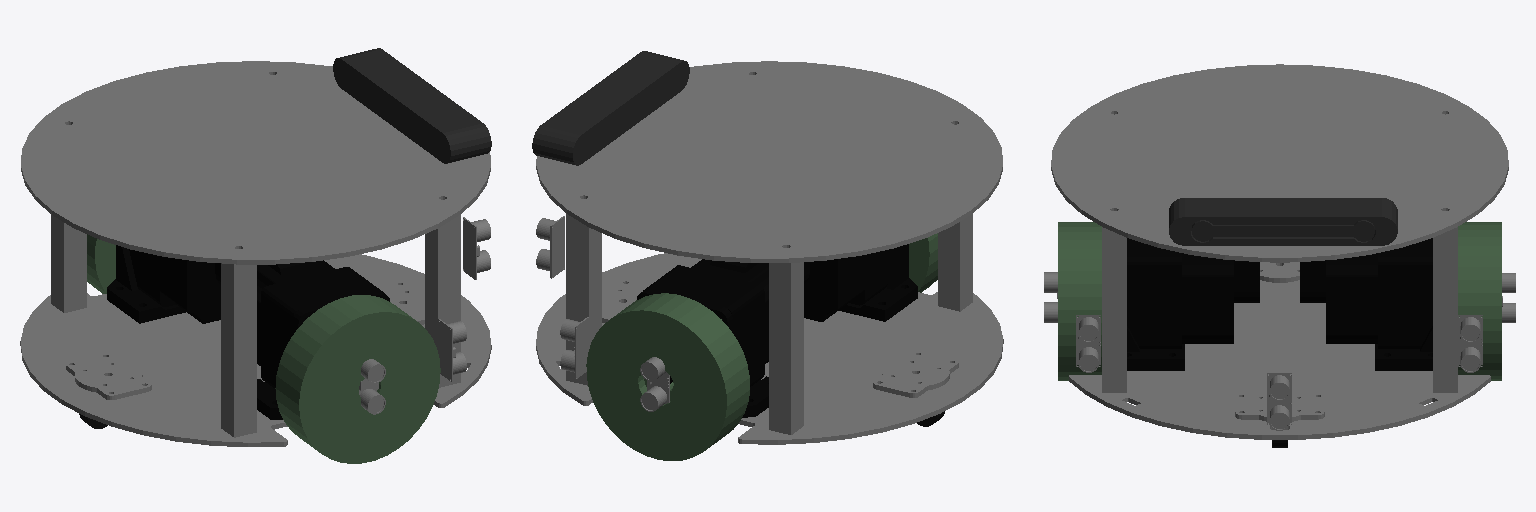
The robot description file, URDF, robot "bucketbot_description":
<robot
  name="bucketbot_description">
  <link name="base_footprint"/>
    <joint name="base_joint" type="fixed">
      <origin xyz="0 0 0.0102" rpy="0 0 0" />
      <parent link="base_footprint"/>
      <child link="base_link" />
    </joint>
  <link
    name="base_link">
    <inertial>
      <origin
        xyz="-0.0499953708642669 0.273628593838788 0.235169610668493"
        rpy="0 0 0" />
      <mass
        value="0.367366200465706" />
      <inertia
        ixx="0.00331510122406848"
        ixy="5.85609399730688E-21"
        ixz="-1.82174000558671E-19"
        iyy="0.00553148809580428"
        iyz="-4.22084839832949E-08"
        izz="0.00221806653528144" />
    </inertial>
    <visual>
      <origin
        xyz="0 0 0"
        rpy="0 0 3.1415" />
      <geometry>
        <mesh
          filename="package://bucketbot_description/meshes/base_link.stl" />
      </geometry>
      <material
        name="">
        <color
          rgba="0.5 0.5 0.5 1" />
      </material>
    </visual>
    <collision>
      <origin
        xyz="0 0 0"
        rpy="0 0 0" />
      <geometry>
        <mesh
          filename="package://bucketbot_description/meshes/base_link.stl" />
      </geometry>
    </collision>
  </link>
  <link
    name="motor_link">
    <inertial>
      <origin
        xyz="1.1102E-16 0.0023428 0.127"
        rpy="0 0 0" />
      <mass
        value="1.3269" />
      <inertia
        ixx="0.0113"
        ixy="-2.4346E-19"
        ixz="1.0262E-17"
        iyy="0.011261"
        iyz="-1.4454E-10"
        izz="0.0015606" />
    </inertial>
    <visual>
      <origin
        xyz="0 0 0"
        rpy="0 0 0" />
      <geometry>
        <mesh
          filename="package://bucketbot_description/meshes/motor_link.stl" />
      </geometry>
      <material
        name="">
        <color
          rgba="0.05 0.05 0.05 1" />
      </material>
    </visual>
    <collision>
      <origin
        xyz="0 0 0"
        rpy="0 0 0" />
      <geometry>
        <mesh
          filename="package://bucketbot_description/meshes/motor_link.stl" />
      </geometry>
    </collision>
  </link>
  <joint
    name="motor_joint"
    type="fixed">
    <origin
      xyz="0 -0.127 0.0515"
      rpy="-1.5708 -1.6653E-15 -2.6914E-16" />
    <parent
      link="base_link" />
    <child
      link="motor_link" />
    <axis
      xyz="0 0 0" />
  </joint>
  <link
    name="omini_wheel_link">
    <inertial>
      <origin
        xyz="-1.201E-07 -0.014473 -0.13577"
        rpy="0 0 0" />
      <mass
        value="0.024238" />
      <inertia
        ixx="0.00041417"
        ixy="1.0458E-11"
        ixz="-1.1015E-11"
        iyy="0.00041218"
        iyz="1.143E-06"
        izz="4.0051E-06" />
    </inertial>
    <visual>
      <origin
        xyz="0 0 0"
        rpy="0 0 0" />
      <geometry>
        <mesh
          filename="package://bucketbot_description/meshes/omini_wheel_link.stl" />
      </geometry>
      <material
        name="">
        <color
          rgba="0.1 0.1 0.1 1" />
      </material>
    </visual>
    <collision>
      <origin
        xyz="0 0 0"
        rpy="0 0 0" />
      <geometry>
        <mesh
          filename="package://bucketbot_description/meshes/omini_wheel_link.stl" />
      </geometry>
    </collision>
  </link>
  <joint
    name="omini_wheel_joint"
    type="fixed">
    <origin
      xyz="0.13 0 0.0025"
      rpy="1.5708 -4.482E-31 1.5708" />
    <parent
      link="base_link" />
    <child
      link="omini_wheel_link" />
    <axis
      xyz="0 0 0" />
  </joint>
  <link
    name="pole_link">
    <inertial>
      <origin
        xyz="0.13 0.075 0.09"
        rpy="0 0 0" />
      <mass
        value="0.23757" />
      <inertia
        ixx="0.0023712"
        ixy="4.2381E-19"
        ixz="-1.0842E-19"
        iyy="0.0059551"
        iyz="-2.881E-19"
        izz="0.0044618" />
    </inertial>
    <visual>
      <origin
        xyz="0 0 0"
        rpy="0 0 0" />
      <geometry>
        <mesh
          filename="package://bucketbot_description/meshes/pole_link.stl" />
      </geometry>
      <material
        name="">
        <color
          rgba="0.5 0.5 0.5 1" />
      </material>
    </visual>
    <collision>
      <origin
        xyz="0 0 0"
        rpy="0 0 0" />
      <geometry>
        <mesh
          filename="package://bucketbot_description/meshes/pole_link.stl" />
      </geometry>
    </collision>
  </link>
  <joint
    name="pole_joint"
    type="fixed">
    <origin
      xyz="-0.09 -0.13 0.004"
      rpy="1.5708 -4.482E-31 1.5708" />
    <parent
      link="base_link" />
    <child
      link="pole_link" />
    <axis
      xyz="0 0 0" />
  </joint>
  <link
    name="top_plate_link">
    <inertial>
      <origin
        xyz="0 0.002 0"
        rpy="0 0 0" />
      <mass
        value="0.40662" />
      <inertia
        ixx="0.0032942"
        ixy="5.1699E-24"
        ixz="-2.068E-22"
        iyy="0.0065826"
        iyz="2.5849E-24"
        izz="0.0032895" />
    </inertial>
    <visual>
      <origin
        xyz="0 0 0"
        rpy="0 0 0" />
      <geometry>
        <mesh
          filename="package://bucketbot_description/meshes/top_plate_link.stl" />
      </geometry>
      <material
        name="">
        <color
          rgba="0.5 0.5 0.5 1" />
      </material>
    </visual>
    <collision>
      <origin
        xyz="0 0 0"
        rpy="0 0 0" />
      <geometry>
        <mesh
          filename="package://bucketbot_description/meshes/top_plate_link.stl" />
      </geometry>
    </collision>
  </link>
  <joint
    name="top_plate_joint"
    type="fixed">
    <origin
      xyz="0 0 0.154"
      rpy="1.5708 -4.482E-31 1.5708" />
    <parent
      link="base_link" />
    <child
      link="top_plate_link" />
    <axis
      xyz="0 0 0" />
  </joint>
  <link
    name="camera_link">
    <inertial>
      <origin
        xyz="1.3878E-17 1.1102E-16 -0.00026767"
        rpy="0 0 0" />
      <mass
        value="0.154" />
      <inertia
        ixx="2.4237E-05"
        ixy="-9.6537E-22"
        ixz="-8.3256E-21"
        iyy="0.00041068"
        iyz="-2.6916E-22"
        izz="0.00040212" />
    </inertial>
    <visual>
      <origin
        xyz="0 0 0"
        rpy="1.5708 0 1.5708" />
      <geometry>
        <mesh
          filename="package://bucketbot_description/meshes/camera_link.stl" />
      </geometry>
      <material
        name="">
        <color
          rgba="0.2 0.2 0.2 1" />
      </material>
    </visual>
    <collision>
      <origin
        xyz="0 0 0"
        rpy="0 0 0" />
      <geometry>
        <mesh
          filename="package://bucketbot_description/meshes/camera_link.stl" />
      </geometry>
    </collision>
  </link>
  <joint
    name="camera_joint"
    type="fixed">
    <origin
      xyz="0.13946 0.0026256 0.1705"
      rpy="0 -4.482E-31 0" />
    <parent
      link="base_link" />
    <child
      link="camera_link" />
    <axis
      xyz="0 0 0" />
  </joint>
  <!--for camera sensor model -->
      <joint name="camera_depth_joint" type="fixed">
        <origin xyz="0.0 0.049 0.0" rpy="0 0 0" />
        <parent link="camera_link" />
        <child link="camera_depth_frame"/>
      </joint>
      <link name="camera_depth_frame"/>

      <joint name="camera_depth_optical_joint" type="fixed">
        <origin xyz="0 0 0" rpy="-1.5708 0.0 -1.5708" />
        <parent link="camera_depth_frame" />
        <child link="camera_depth_optical_frame"/>
      </joint>

      <link name="camera_depth_optical_frame"/>

      <joint name="camera_rgb_joint" type="fixed">
        <origin xyz="0.0 0.022 0.0" rpy="0 0 0" />
        <parent link="camera_link" />
        <child link="camera_rgb_frame"/>
      </joint>

      <link name="camera_rgb_frame"/>

      <joint name="camera_rgb_optical_joint" type="fixed">
        <origin xyz="0 0 0" rpy="-1.5708 0.0 -1.5708" />
        <parent link="camera_rgb_frame" />
        <child link="camera_rgb_optical_frame"/>
      </joint>
      <link name="camera_rgb_optical_frame"/>
  <!--link
    name="laser_link">
    <inertial>
      <origin
        xyz="-0.0034294 -1.7992E-10 -0.0064564"
        rpy="0 0 0" />
      <mass
        value="0.14728" />
      <inertia
        ixx="6.2168E-05"
        ixy="2.8308E-12"
        ixz="5.4164E-06"
        iyy="8.3311E-05"
        iyz="3.0404E-13"
        izz="0.00011395" />
    </inertial>
    <visual>
      <origin
        xyz="0 0 0"
        rpy="0 0 0" />
      <geometry>
        <mesh
          filename="package://bucketbot_description/meshes/laser_link.STL" />
      </geometry>
      <material
        name="">
        <color
          rgba="0.75294 0.75294 0.75294 1" />
      </material>
    </visual>
    <collision>
      <origin
        xyz="0 0 0"
        rpy="0 0 0" />
      <geometry>
        <mesh
          filename="package://bucketbot_description/meshes/laser_link.STL" />
      </geometry>
    </collision>
  </link>
  <joint
    name="laser"
    type="fixed">
    <origin
      xyz="0.1425 0 0.204"
      rpy="0 0 6.314E-15" />
    <parent
      link="base_link" />
    <child
      link="laser_link" />
    <axis
      xyz="0 0 0" />
  </joint-->
  <!-- for three ultrasound for FC FR(angle 30) FC(angle 30)>
  <link
    name="FL_ultrasonic_link">
    <inertial>
      <origin
        xyz="0 0 0"
        rpy="0 0 0" />
      <mass
        value="0.42561" />
      <inertia
        ixx="0.00047626"
        ixy="-2.6156E-19"
        ixz="1.3553E-20"
        iyy="0.00086139"
        iyz="-5.6288E-20"
        izz="0.00047626" />
    </inertial>
    <visual>
      <origin
        xyz="0 -0.01022 -0.02275"
        rpy="0 -1.5708 -1.0472" />
      <geometry>
        <mesh
          filename="package://bucketbot_description/meshes/ultrasonic_link.STL" />
      </geometry>
      <material
        name="">
        <color
          rgba="0.5 0.5 0.5 1" />
      </material>
    </visual>
    <collision>
      <origin
        xyz="0 0 0"
        rpy="0 0 0" />
      <geometry>
        <mesh
          filename="package://bucketbot_description/meshes/ultrasonic_link.STL" />
      </geometry>
    </collision>
  </link>
  <joint
    name="FL_ultrasonic_joint"
    type="fixed">
    <origin
      xyz="0.163 0.094 0.04"
      rpy="0 0 0.5236" />
    <parent
      link="base_link" />
    <child
      link="FL_ultrasonic_link" />
    <axis
      xyz="0 0 0" />
  </joint>

  <link
    name="FC_ultrasonic_link">
    <inertial>
      <origin
        xyz="0 0 0"
        rpy="0 0 0" />
      <mass
        value="0.42561" />
      <inertia
        ixx="0.00047626"
        ixy="-2.6156E-19"
        ixz="1.3553E-20"
        iyy="0.00086139"
        iyz="-5.6288E-20"
        izz="0.00047626" />
    </inertial>
    <visual>
      <origin
        xyz="0 -0.01022 -0.02275"
        rpy="0 -1.5708 -1.5708" />
      <geometry>
        <mesh
          filename="package://bucketbot_description/meshes/ultrasonic_link.STL" />
      </geometry>
      <material
        name="">
        <color
          rgba="0.5 0.5 0.5 1" />
      </material>
    </visual>
    <collision>
      <origin
        xyz="0 0 0"
        rpy="0 0 0" />
      <geometry>
        <mesh
          filename="package://bucketbot_description/meshes/ultrasonic_link.STL" />
      </geometry>
    </collision>
  </link>
  <joint
    name="FC_ultrasonic_joint"
    type="fixed">
    <origin
      xyz="0.188 0 0.04"
      rpy="0 0 0" />
    <parent
      link="base_link" />
    <child
      link="FC_ultrasonic_link" />
    <axis
      xyz="0 0 0" />
  </joint>

  <link
    name="FR_ultrasonic_link">
    <inertial>
      <origin
        xyz="0 0 0"
        rpy="0 0 0" />
      <mass
        value="0.42561" />
      <inertia
        ixx="0.00047626"
        ixy="-2.6156E-19"
        ixz="1.3553E-20"
        iyy="0.00086139"
        iyz="-5.6288E-20"
        izz="0.00047626" />
    </inertial>
    <visual>
      <origin
        xyz="0 -0.01022 -0.02275"
        rpy="0 -1.5708 -2.0944" />
      <geometry>
        <mesh
          filename="package://bucketbot_description/meshes/ultrasonic_link.STL" />
      </geometry>
      <material
        name="">
        <color
          rgba="0.5 0.5 0.5 1" />
      </material>
    </visual>
    <collision>
      <origin
        xyz="0 0 0"
        rpy="0 0 0" />
      <geometry>
        <mesh
          filename="package://bucketbot_description/meshes/ultrasonic_link.STL" />
      </geometry>
    </collision>
  </link>
  <joint
    name="FR_ultrasonic_joint"
    type="fixed">
    <origin
      xyz="0.163 -0.094 0.04"
      rpy="0 0 -0.5236" />
    <parent
      link="base_link" />
    <child
      link="FR_ultrasonic_link" />
    <axis
      xyz="0 0 0" />
  </joint>
  <to here-->

  <link
    name="L_ultrasonic_link">
    <inertial>
      <origin
        xyz="0 0 0"
        rpy="0 0 0" />
      <mass
        value="0.42561" />
      <inertia
        ixx="0.00047626"
        ixy="-2.6156E-19"
        ixz="1.3553E-20"
        iyy="0.00086139"
        iyz="-5.6288E-20"
        izz="0.00047626" />
    </inertial>
    <visual>
      <origin
        xyz="0 -0.01022 -0.02275"
        rpy="0 -1.5708 -1.5708"  />
      <geometry>
        <mesh
          filename="package://bucketbot_description/meshes/ultrasonic_link.STL" />
      </geometry>
      <material
        name="">
        <color
          rgba="0.5 0.5 0.5 1" />
      </material>
    </visual>
    <collision>
      <origin
        xyz="0 0 0"
        rpy="0 0 0" />
      <geometry>
        <mesh
          filename="package://bucketbot_description/meshes/ultrasonic_link.STL" />
      </geometry>
    </collision>

  </link>
  <joint
    name="L_ultrasonic_joint"
    type="fixed">
    <origin

      xyz="0 0.170 0.04"
      rpy="0 0 1.5708" />
    <parent
      link="base_link" />
    <child

      link="L_ultrasonic_link" />
    <axis
      xyz="0 0 0" />
  </joint>

  <link

    name="FC_ultrasonic_link">
    <inertial>
      <origin
        xyz="0 0 0"
        rpy="0 0 0" />

      <mass
        value="0.42561" />
      <inertia
        ixx="0.00047626"
        ixy="-2.6156E-19"
        ixz="1.3553E-20"

        iyy="0.00086139"
        iyz="-5.6288E-20"
        izz="0.00047626" />
    </inertial>
    <visual>

      <origin
        xyz="0 -0.01022 -0.02275"
        rpy="0 -1.5708 -1.5708" />
      <geometry>
        <mesh

          filename="package://bucketbot_description/meshes/ultrasonic_link.STL" />
      </geometry>

      <material
        name="">
        <color
          rgba="0.5 0.5 0.5 1" />
      </material>
    </visual>

    <collision>
      <origin
        xyz="0 0 0"
        rpy="0 0 0" />
      <geometry>

        <mesh
          filename="package://bucketbot_description/meshes/ultrasonic_link.STL" />
      </geometry>
    </collision>
  </link>
  <joint

    name="FC_ultrasonic_joint"
    type="fixed">
    <origin
      xyz="0.188 0 0.04"
      rpy="0 0 0" />

    <parent
      link="base_link" />
    <child
      link="FC_ultrasonic_link" />
    <axis
      xyz="0 0 0" />

  </joint>

  <link
    name="R_ultrasonic_link">
    <inertial>

      <origin
        xyz="0 0 0"
        rpy="0 0 0" />
      <mass
        value="0.42561" />

      <inertia
        ixx="0.00047626"
        ixy="-2.6156E-19"
        ixz="1.3553E-20"
        iyy="0.00086139"
        iyz="-5.6288E-20"

        izz="0.00047626" />
    </inertial>
    <visual>
      <origin
        xyz="0 -0.01022 -0.02275"

        rpy="0 -1.5708 -1.5708" />
      <geometry>
        <mesh
          filename="package://bucketbot_description/meshes/ultrasonic_link.STL" />
      </geometry>
      <material

        name="">
        <color
          rgba="0.5 0.5 0.5 1" />
      </material>
    </visual>

    <collision>
      <origin
        xyz="0 0 0"
        rpy="0 0 0" />
      <geometry>
        <mesh

          filename="package://bucketbot_description/meshes/ultrasonic_link.STL" />
      </geometry>
    </collision>
  </link>
  <joint

    name="R_ultrasonic_joint"
    type="fixed">
    <origin
      xyz="0 -0.170 0.04"
      rpy="0 0 -1.5708" />

    <parent
      link="base_link" />
    <child
      link="R_ultrasonic_link" />
    <axis
      xyz="0 0 0" />

  </joint>

  <link
    name="FL_ultrasonic_link">
    <inertial>
      <origin

        xyz="0 0 0"
        rpy="0 0 0" />
      <mass
        value="0.42561" />
      <inertia

        ixx="0.00047626"
        ixy="-2.6156E-19"
        ixz="1.3553E-20"
        iyy="0.00086139"
        iyz="-5.6288E-20"
        izz="0.00047626" />
    </inertial>
    <visual>
      <origin
        xyz="0 -0.01022 -0.02275"
        rpy="0 -1.5708 -1.5708" />
      <geometry>
        <mesh
          filename="package://bucketbot_description/meshes/ultrasonic_link.STL" />
      </geometry>
      <material
        name="">
        <color
          rgba="0.5 0.5 0.5 1" />
      </material>
    </visual>
    <collision>
      <origin
        xyz="0 0 0"
        rpy="0 0 0" />
      <geometry>
        <mesh
          filename="package://bucketbot_description/meshes/ultrasonic_link.STL" />
      </geometry>
    </collision>
  </link>
  <joint
    name="FL_ultrasonic_joint"

    type="fixed">
    <origin
      xyz="0.080 0.150 0.04"
      rpy="0 0 0" />
    <parent

      link="base_link" />
    <child
      link="FL_ultrasonic_link" />
    <axis
      xyz="0 0 0" />
  </joint>

  <link
    name="FR_ultrasonic_link">
    <inertial>
      <origin

        xyz="0 0 0"
        rpy="0 0 0" />
      <mass
        value="0.42561" />
      <inertia

        ixx="0.00047626"
        ixy="-2.6156E-19"
        ixz="1.3553E-20"
        iyy="0.00086139"
        iyz="-5.6288E-20"
        izz="0.00047626" />
    </inertial>
    <visual>
      <origin
        xyz="0 -0.01022 -0.02275"
        rpy="0 -1.5708 -1.5708" />
      <geometry>
        <mesh
          filename="package://bucketbot_description/meshes/ultrasonic_link.STL" />
      </geometry>
      <material
        name="">
        <color
          rgba="0.5 0.5 0.5 1" />
      </material>
    </visual>
    <collision>
      <origin
        xyz="0 0 0"
        rpy="0 0 0" />
      <geometry>
        <mesh
          filename="package://bucketbot_description/meshes/ultrasonic_link.STL" />
      </geometry>
    </collision>
  </link>
  <joint
    name="FR_ultrasonic_joint"

    type="fixed">
    <origin
      xyz="0.080 -0.150 0.04"
      rpy="0 0 0" />
    <parent

      link="base_link" />
    <child
      link="FR_ultrasonic_link" />
    <axis
      xyz="0 0 0" />
  </joint>

  <link
    name="left_wheel_link">
    <inertial>
      <origin
        xyz="0 0.017846 0"
        rpy="0 0 0" />
      <mass
        value="0.42561" />
      <inertia
        ixx="0.00047626"
        ixy="-2.6156E-19"
        ixz="1.3553E-20"
        iyy="0.00086139"
        iyz="-5.6288E-20"
        izz="0.00047626" />
    </inertial>
    <visual>
      <origin
        xyz="0 0 0"
        rpy="0 0 0" />
      <geometry>
        <mesh
          filename="package://bucketbot_description/meshes/left_wheel_link.stl" />
      </geometry>
      <material
        name="">
        <color
          rgba="0.3 0.4 0.3 1" />
      </material>
    </visual>
    <collision>
      <origin
        xyz="0 0 0"
        rpy="0 0 0" />
      <geometry>
        <mesh
          filename="package://bucketbot_description/meshes/left_wheel_link.stl" />
      </geometry>
    </collision>
  </link>
  <joint
    name="left_wheel_joint"
    type="continuous">
    <origin
      xyz="0 0.138 0.0365"
      rpy="3.1416 -1.0226 3.1416" />
    <parent
      link="base_link" />
    <child
      link="left_wheel_link" />
    <axis
      xyz="0 1 0" />
  </joint>
  <link
    name="right_wheel_link">
    <inertial>
      <origin
        xyz="0 0.017846 -2.7756E-17"
        rpy="0 0 0" />
      <mass
        value="0.42561" />
      <inertia
        ixx="0.00047626"
        ixy="1.7909E-20"
        ixz="-5.4217E-20"
        iyy="0.00086139"
        iyz="5.2443E-20"
        izz="0.00047626" />
    </inertial>
    <visual>
      <origin
        xyz="0 0 0"
        rpy="0 0 0" />
      <geometry>
        <mesh
          filename="package://bucketbot_description/meshes/right_wheel_link.stl" />
      </geometry>
      <material
        name="">
        <color
          rgba="0.3 0.4 0.3 1" />
      </material>
    </visual>
    <collision>
      <origin
        xyz="0 0 0"
        rpy="0 0 0" />
      <geometry>
        <mesh
          filename="package://bucketbot_description/meshes/right_wheel_link.stl" />
      </geometry>
    </collision>
  </link>
  <joint
    name="right_wheel_joint"
    type="continuous">
    <origin
      xyz="0 -0.174 0.0365"
      rpy="0 -1.5708 0" />
    <parent
      link="base_link" />
    <child
      link="right_wheel_link" />
    <axis
      xyz="0 1 0" />
  </joint>
</robot>

--- Facts derived from the render (not from the file) ---
Views: 3 orthographic renders of the robot side by side, from view 1: azimuth 30°, elevation 25°; view 2: azimuth 150°, elevation 25°; view 3: azimuth 270°, elevation 25°.
Model bucketbot_description with 18 links and 17 joints (2 continuous, 15 fixed), rooted at base_footprint, posed all joints at 0.
Visible links, largest first — view 1: top_plate_link, base_link, right_wheel_link, motor_link, pole_link, camera_link, left_wheel_link, FR_ultrasonic_link, FC_ultrasonic_link, R_ultrasonic_link; view 2: top_plate_link, base_link, left_wheel_link, motor_link, pole_link, camera_link, right_wheel_link, FC_ultrasonic_link, FL_ultrasonic_link, L_ultrasonic_link; view 3: top_plate_link, base_link, motor_link, camera_link, pole_link, right_wheel_link, left_wheel_link, FC_ultrasonic_link, FL_ultrasonic_link, FR_ultrasonic_link, R_ultrasonic_link, L_ultrasonic_link.
Boxes of the visible links, box(x1,y1,x2,y2) form: top_plate_link: box(21, 61, 490, 264); base_link: box(20, 254, 491, 446); right_wheel_link: box(275, 295, 440, 463); motor_link: box(107, 245, 389, 419); pole_link: box(51, 215, 460, 437); camera_link: box(333, 48, 491, 163); left_wheel_link: box(87, 234, 115, 293); FR_ultrasonic_link: box(438, 319, 466, 381); FC_ultrasonic_link: box(463, 217, 490, 279); R_ultrasonic_link: box(359, 359, 385, 414); top_plate_link: box(536, 61, 1002, 262); base_link: box(536, 253, 1003, 444); left_wheel_link: box(586, 293, 749, 460); motor_link: box(637, 244, 917, 417); pole_link: box(566, 214, 972, 434); camera_link: box(532, 51, 689, 165); right_wheel_link: box(909, 233, 937, 292); FC_ultrasonic_link: box(536, 216, 564, 278); FL_ultrasonic_link: box(560, 317, 588, 379); L_ultrasonic_link: box(640, 357, 669, 411); top_plate_link: box(1051, 64, 1508, 262); base_link: box(1069, 262, 1490, 439); motor_link: box(1127, 238, 1432, 370); camera_link: box(1169, 198, 1397, 245); pole_link: box(1102, 227, 1457, 392); right_wheel_link: box(1058, 222, 1101, 380); left_wheel_link: box(1458, 222, 1501, 380); FC_ultrasonic_link: box(1267, 373, 1291, 430); FL_ultrasonic_link: box(1458, 315, 1482, 372); FR_ultrasonic_link: box(1076, 315, 1100, 372); R_ultrasonic_link: box(1044, 272, 1057, 322); L_ultrasonic_link: box(1502, 273, 1515, 322).
Size in the robot's own frame: 0.383 by 0.37 by 0.216 metres.
Meshes: 9 distinct files referenced, 13 mesh visuals loaded (9 binary STL).